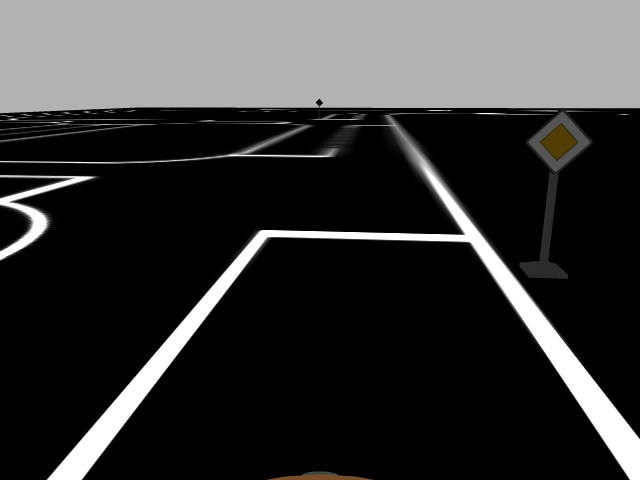priority: (527, 109, 592, 174)
